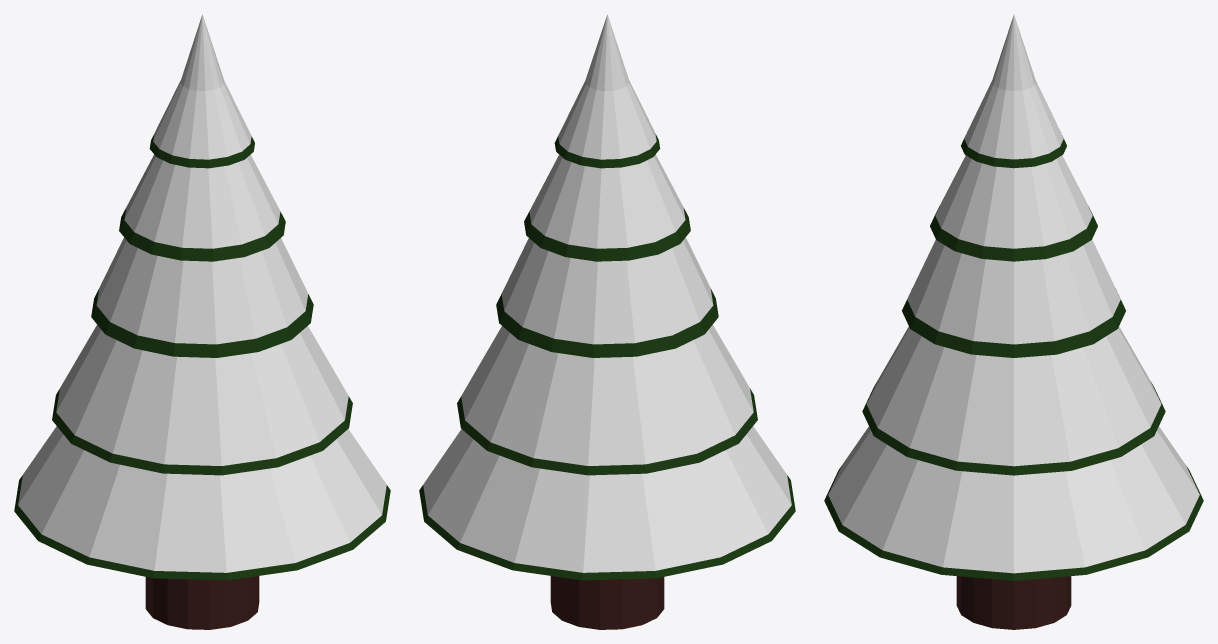
Rendered from Tanne1b.fbx.
The picture shows the model from 3 angles, left to right: view 1: azimuth 30°, elevation 25°; view 2: azimuth 150°, elevation 25°; view 3: azimuth 270°, elevation 25°; orthographic projection.
Parts seen in each view (by area): view 1: Tanne1.001; view 2: Tanne1.001; view 3: Tanne1.001.
Boxes of the visible parts, x1,y1,x2,y2 form: Tanne1.001: [14, 14, 390, 629]; Tanne1.001: [419, 14, 795, 629]; Tanne1.001: [824, 14, 1203, 629].
Bounding box in the file's own units: 1602 × 2755 × 1602.
